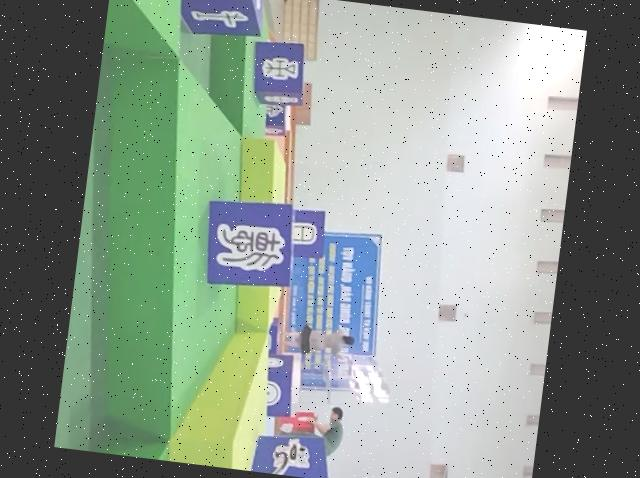R1 Blue: (249, 428, 340, 478)
R2 Fake Blue: (198, 194, 301, 293), (284, 203, 327, 258), (262, 102, 291, 139)
R2 Real Blue: (247, 35, 311, 106), (163, 0, 262, 40), (258, 352, 296, 419)
